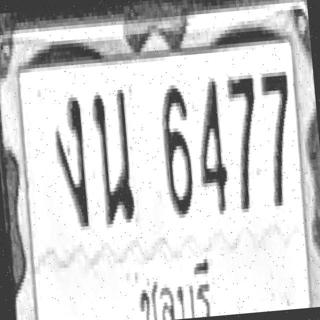A07: (51, 93, 90, 228)
A25: (90, 86, 136, 224)
N04: (192, 76, 230, 214)
N06: (158, 84, 195, 215)
N07: (259, 68, 298, 206), (226, 73, 264, 211)
P13: (130, 251, 214, 320)
